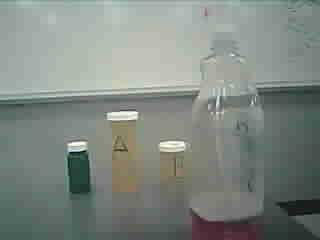Bottle A: (106, 110, 145, 196)
Bottle B: (157, 141, 188, 192)
Bottle C: (64, 139, 96, 199)
hazard: (188, 2, 269, 238)
